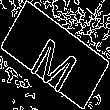M_NE: (26, 21, 84, 89)
